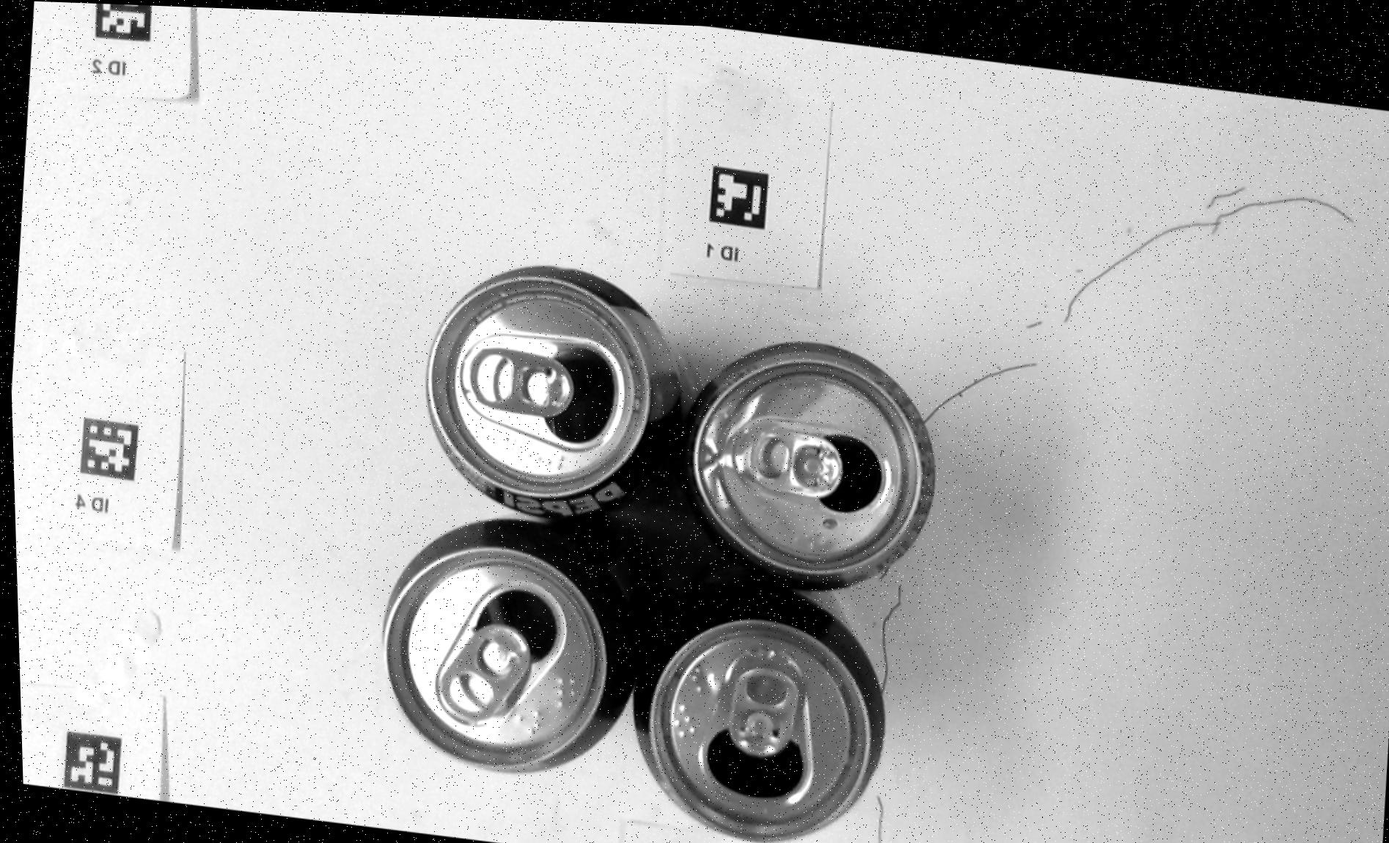can_coke_decaf: (680, 342, 935, 589)
can_coke_zero: (384, 519, 636, 771)
can_pepsi: (633, 584, 885, 840)
can_pepsi_zero: (427, 265, 680, 519)
